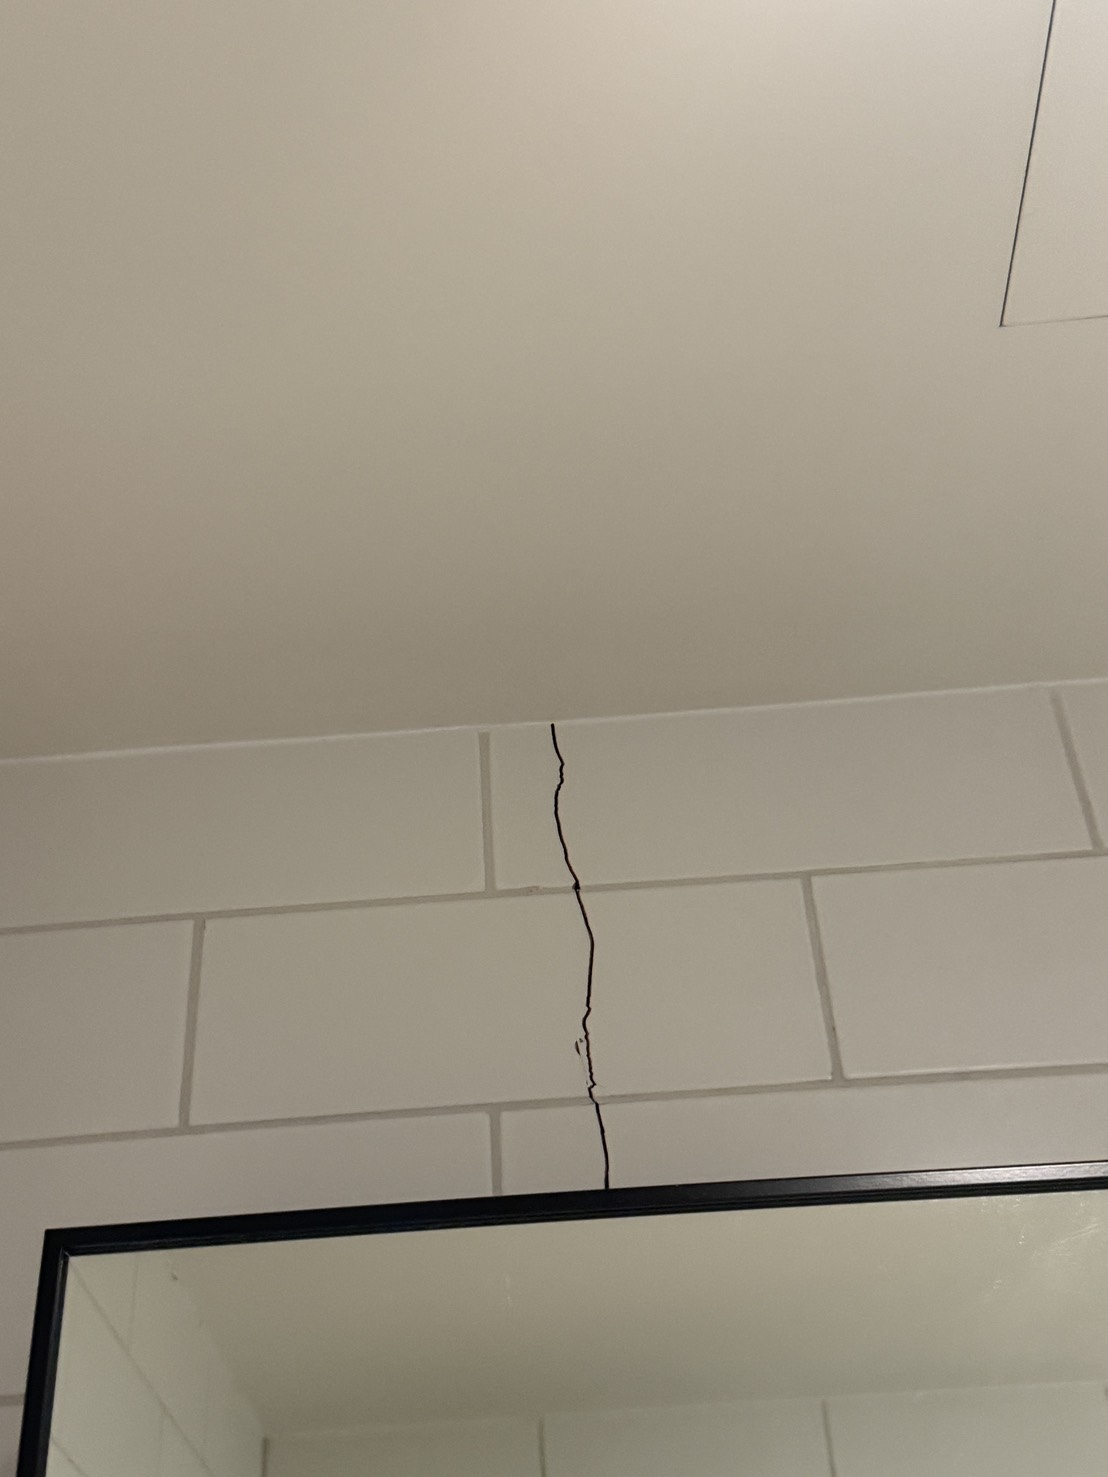Low: (520, 708, 637, 1203)
